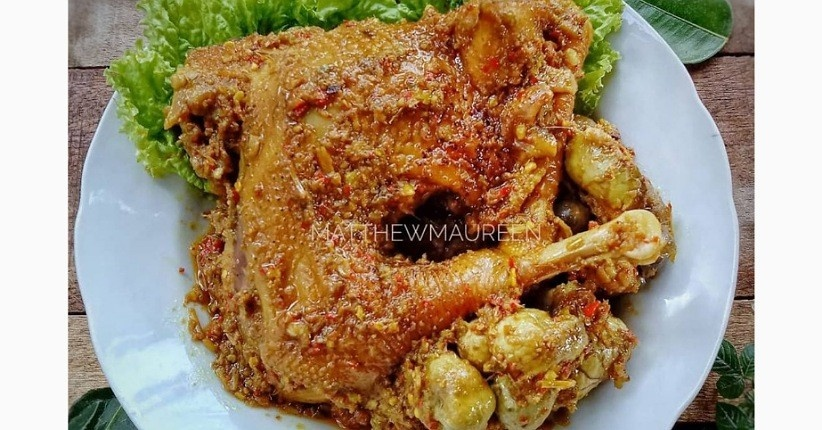ayam_betutu: (176, 24, 679, 430)
